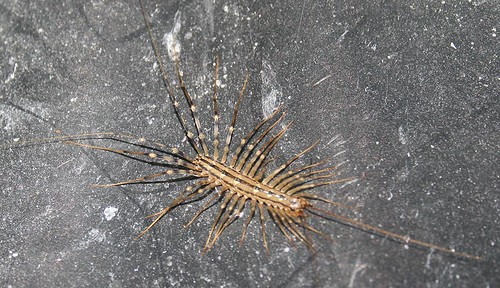centipede: (93, 81, 397, 254)
